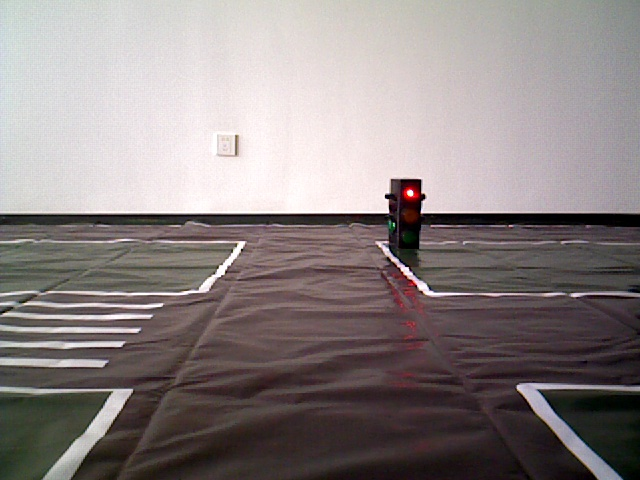red: (387, 179, 421, 257)
